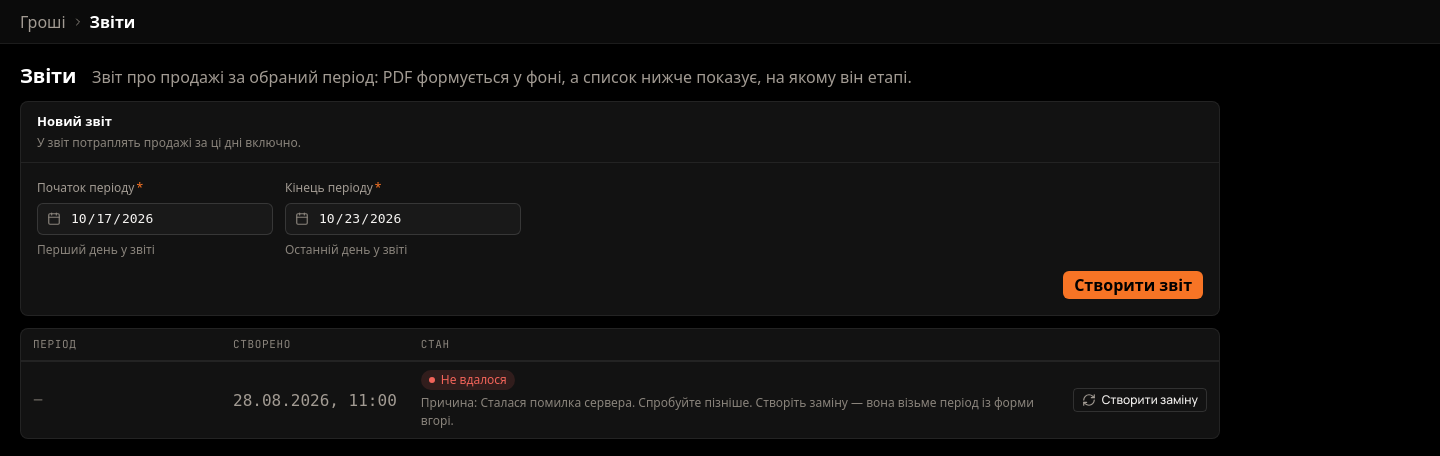
Test: blocks a still-visible retry when the current permission set loses reports.manage
Click the button "Створити заміну" at point(1140, 400), box x1=1073 y1=388 x2=1207 y2=412
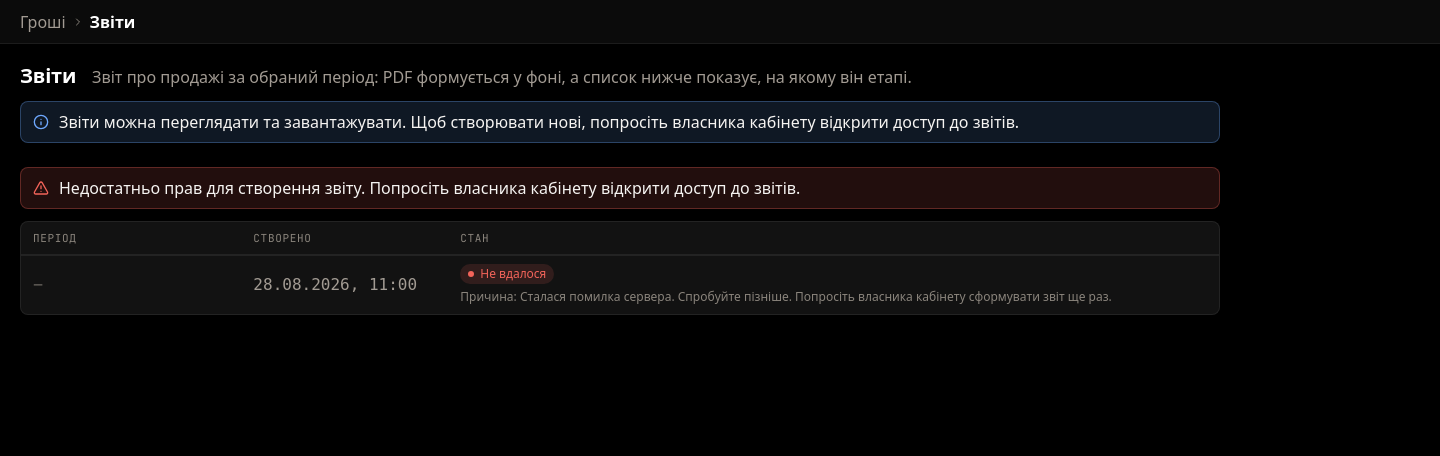
Now the 2nd message shows "Недостатньо прав", box x1=59 y1=177 x2=800 y2=199
